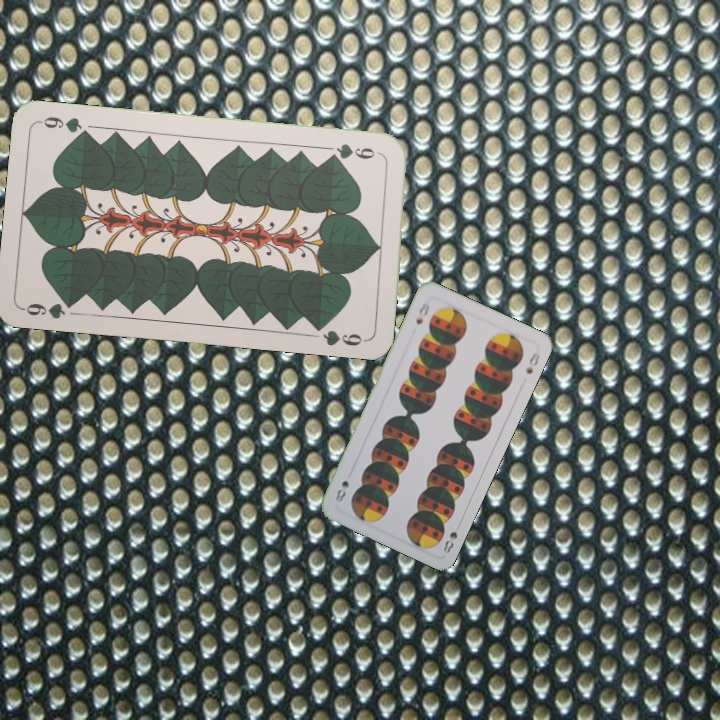G9: (19, 296, 79, 322), (325, 139, 384, 162)
S8: (439, 518, 464, 556), (411, 298, 432, 327)
